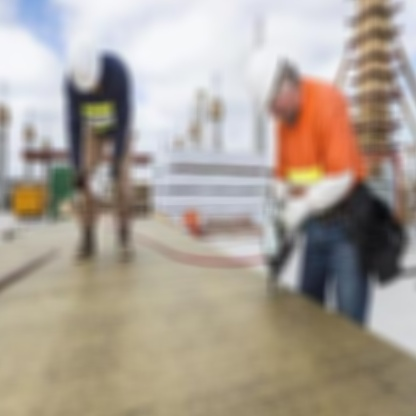white: (239, 33, 287, 121), (58, 26, 104, 96)
